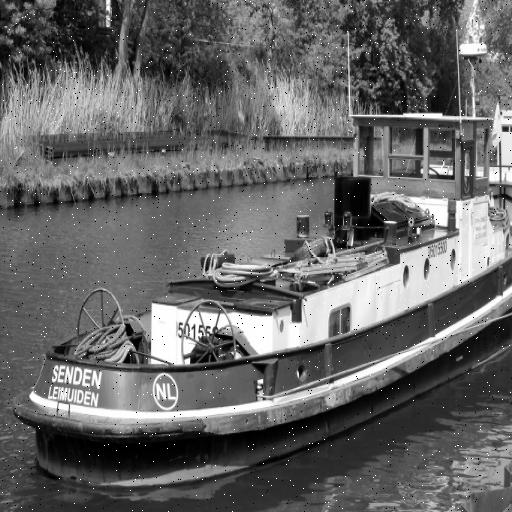tugboat: (8, 92, 512, 499)
